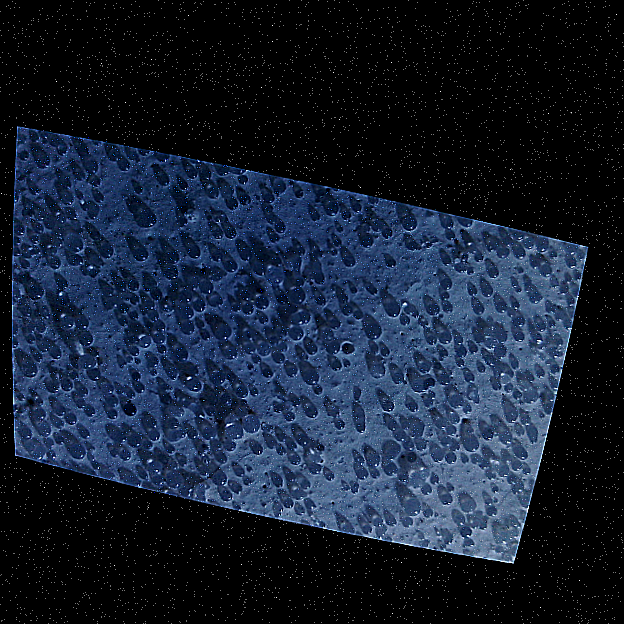GrassBeadSeg: (24, 151, 396, 507), (94, 207, 465, 523), (67, 194, 409, 527), (69, 255, 452, 544), (56, 214, 488, 470), (35, 248, 521, 475), (47, 258, 577, 460), (32, 186, 363, 507), (30, 285, 449, 535), (179, 259, 576, 497), (68, 211, 403, 481), (15, 248, 509, 426), (56, 258, 414, 503), (87, 151, 432, 405), (14, 237, 450, 431), (46, 180, 484, 373), (13, 299, 393, 517), (85, 302, 507, 494), (203, 170, 518, 423), (121, 159, 368, 478), (139, 231, 455, 479), (30, 234, 315, 504), (42, 321, 486, 494), (30, 186, 497, 348), (47, 278, 524, 434), (14, 192, 253, 486), (162, 303, 517, 488), (21, 305, 444, 460), (92, 177, 318, 464), (79, 213, 328, 473), (151, 290, 434, 518), (113, 292, 536, 442), (61, 216, 417, 391), (233, 293, 541, 494), (73, 227, 388, 422), (78, 267, 551, 396), (19, 151, 205, 475), (35, 225, 504, 353), (38, 327, 437, 477), (270, 214, 470, 513), (37, 155, 349, 325), (139, 384, 467, 535), (13, 237, 300, 406), (213, 210, 507, 371), (61, 179, 235, 451), (264, 193, 456, 436), (51, 265, 547, 358), (275, 183, 440, 462), (57, 334, 305, 515), (107, 286, 507, 398), (307, 301, 519, 509), (77, 287, 477, 395), (60, 178, 346, 329), (22, 137, 142, 488), (342, 211, 494, 486), (16, 134, 219, 337), (34, 311, 366, 433), (22, 260, 209, 475), (30, 286, 258, 455), (55, 286, 353, 415), (79, 198, 238, 438), (61, 406, 499, 493), (202, 330, 440, 484), (40, 331, 451, 418), (132, 371, 479, 473), (87, 207, 231, 450), (55, 228, 236, 420), (166, 369, 490, 476), (70, 373, 471, 459), (46, 297, 405, 393), (85, 249, 323, 393), (254, 263, 384, 525), (218, 393, 496, 515), (269, 322, 540, 447), (143, 361, 469, 464), (130, 295, 418, 410), (21, 319, 423, 401), (73, 255, 281, 413), (238, 175, 357, 445), (126, 322, 546, 398), (137, 267, 497, 355), (240, 248, 475, 382), (188, 168, 302, 441), (149, 356, 475, 450), (15, 224, 352, 314), (134, 280, 339, 427), (187, 278, 447, 392), (143, 247, 317, 417), (261, 381, 501, 504), (167, 294, 300, 512), (148, 222, 280, 440), (92, 321, 284, 470), (121, 428, 413, 525), (12, 354, 251, 472), (351, 202, 519, 369), (243, 249, 361, 478), (178, 217, 522, 293), (314, 274, 452, 463), (101, 244, 339, 353), (291, 273, 467, 420), (343, 256, 448, 494), (311, 304, 452, 473), (106, 188, 214, 407), (285, 411, 472, 537), (89, 194, 245, 345), (201, 253, 484, 336), (274, 287, 378, 512), (167, 234, 278, 444), (294, 278, 485, 400), (143, 187, 256, 391), (311, 212, 397, 475), (67, 237, 221, 382), (405, 332, 525, 515), (373, 256, 453, 517), (34, 294, 287, 376), (179, 291, 431, 372), (147, 188, 219, 469), (33, 234, 126, 450), (165, 266, 450, 335), (263, 304, 523, 378), (29, 408, 233, 500), (70, 216, 183, 380), (156, 182, 281, 330), (133, 247, 401, 316), (35, 359, 342, 418), (148, 260, 233, 473), (402, 252, 480, 483), (55, 403, 468, 445), (337, 216, 413, 430), (75, 170, 131, 459), (20, 426, 456, 463), (246, 194, 337, 369), (432, 218, 530, 377), (242, 303, 360, 433), (130, 389, 406, 442), (16, 145, 113, 295), (79, 260, 238, 347), (118, 165, 225, 292), (368, 286, 473, 414), (419, 437, 537, 550), (24, 327, 288, 376), (12, 296, 269, 346), (58, 278, 298, 330), (448, 361, 518, 536), (111, 448, 282, 515), (266, 439, 396, 526), (283, 400, 390, 505), (224, 305, 484, 348), (368, 362, 453, 492), (180, 291, 240, 474), (39, 214, 306, 255), (32, 335, 152, 426), (12, 137, 66, 334), (165, 385, 319, 454), (166, 202, 339, 263), (382, 400, 475, 513), (289, 180, 436, 250), (361, 456, 474, 547), (376, 469, 504, 548), (75, 170, 150, 304), (14, 191, 223, 238), (151, 289, 216, 438), (149, 332, 226, 457), (24, 210, 220, 259), (107, 410, 295, 460), (344, 485, 519, 538), (229, 228, 525, 259), (253, 355, 416, 411), (375, 377, 431, 536), (238, 455, 464, 494), (149, 324, 232, 428), (65, 413, 264, 455), (415, 381, 531, 452), (49, 257, 499, 275), (235, 384, 311, 489), (136, 295, 241, 370), (355, 380, 559, 418), (212, 228, 272, 355), (158, 174, 287, 232), (203, 425, 334, 481), (37, 319, 552, 333), (288, 474, 417, 527), (180, 320, 298, 376), (170, 431, 252, 511), (169, 355, 256, 429), (256, 297, 298, 449), (100, 244, 186, 316), (205, 406, 283, 485), (267, 194, 322, 305), (134, 186, 157, 447), (313, 386, 452, 429), (370, 320, 556, 352), (118, 387, 209, 451), (244, 233, 280, 394), (119, 316, 174, 421), (12, 147, 63, 257), (15, 335, 432, 348), (94, 192, 329, 215), (274, 266, 319, 384), (213, 225, 340, 266), (148, 294, 348, 320), (411, 417, 531, 460), (132, 412, 202, 485), (291, 454, 427, 491), (85, 428, 227, 463), (443, 218, 540, 269), (350, 286, 375, 477), (179, 180, 220, 295), (344, 304, 419, 365), (17, 392, 522, 401), (34, 229, 84, 318), (434, 337, 563, 370), (189, 321, 316, 354), (250, 214, 273, 395), (291, 289, 373, 339), (129, 211, 157, 355), (442, 219, 520, 270), (504, 287, 541, 393), (187, 245, 285, 285), (76, 317, 153, 365), (25, 312, 139, 344), (291, 304, 479, 323), (178, 347, 293, 374), (493, 371, 511, 540), (66, 236, 200, 258), (101, 151, 121, 297), (290, 279, 451, 297), (218, 166, 304, 199), (423, 433, 512, 464), (159, 326, 304, 345), (457, 241, 543, 273), (300, 189, 380, 223), (449, 394, 520, 432), (127, 356, 236, 380), (388, 410, 512, 431), (413, 486, 497, 517), (223, 198, 239, 358), (241, 408, 339, 433), (454, 335, 556, 358), (482, 393, 531, 440), (15, 194, 72, 234), (54, 419, 137, 446), (118, 160, 135, 290), (497, 331, 545, 377), (153, 443, 204, 486), (360, 235, 381, 339), (423, 485, 493, 516), (456, 471, 495, 525), (174, 406, 221, 450), (370, 235, 395, 316), (412, 311, 435, 399), (471, 456, 525, 493), (174, 250, 206, 312), (39, 379, 73, 437), (47, 131, 64, 247), (175, 267, 223, 308), (334, 239, 498, 251), (273, 470, 380, 487), (136, 175, 170, 227), (405, 357, 453, 392), (98, 259, 128, 313), (91, 349, 126, 394), (467, 268, 531, 292), (283, 331, 333, 361), (135, 345, 166, 393), (37, 296, 70, 340), (401, 292, 446, 324), (381, 228, 392, 354), (294, 444, 319, 499), (438, 362, 561, 373), (212, 472, 306, 486), (214, 416, 260, 443), (28, 202, 89, 222), (169, 407, 188, 471), (160, 394, 215, 416), (373, 221, 414, 250), (445, 334, 480, 367), (332, 238, 418, 251), (64, 147, 85, 200), (174, 306, 194, 359), (89, 358, 116, 395), (420, 319, 431, 407), (385, 422, 411, 459), (330, 318, 350, 366), (77, 370, 101, 409), (383, 347, 391, 463), (548, 319, 572, 357), (475, 521, 503, 553), (278, 433, 325, 452), (486, 355, 557, 367), (243, 293, 255, 363), (242, 292, 268, 324), (355, 448, 397, 466), (451, 442, 482, 464), (436, 418, 459, 447), (513, 229, 535, 259), (27, 135, 35, 217), (394, 372, 435, 388), (465, 237, 530, 247), (546, 298, 575, 320), (476, 334, 538, 344), (503, 454, 530, 476), (507, 305, 556, 317), (259, 315, 278, 345), (542, 356, 554, 401), (440, 335, 463, 357), (461, 246, 478, 275), (186, 372, 225, 384), (32, 440, 54, 461), (514, 229, 535, 250), (527, 349, 540, 382), (228, 363, 254, 379), (519, 380, 536, 404), (550, 275, 581, 288), (556, 278, 572, 302), (511, 460, 522, 494), (92, 230, 102, 267), (495, 528, 515, 546), (548, 246, 575, 259), (57, 227, 95, 236), (323, 319, 340, 339), (499, 465, 527, 477), (438, 413, 459, 429), (402, 421, 413, 450), (187, 168, 211, 181), (574, 247, 583, 281), (470, 521, 487, 539), (270, 336, 287, 352), (516, 417, 531, 435), (111, 283, 122, 307), (512, 267, 525, 287), (541, 337, 561, 350), (405, 441, 417, 462), (130, 334, 139, 358), (91, 349, 104, 365), (536, 240, 553, 252), (81, 191, 90, 211), (35, 130, 48, 143), (441, 494, 452, 505), (534, 334, 542, 349), (427, 336, 436, 345)
